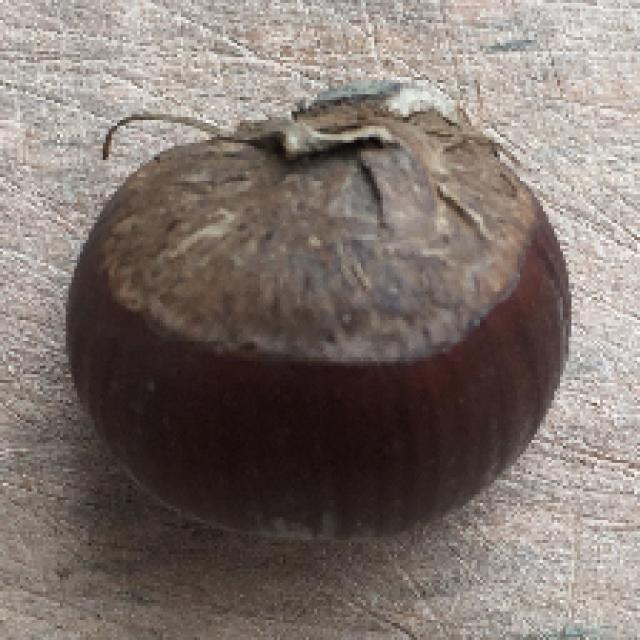damagedHazelnut: (61, 78, 574, 550)
